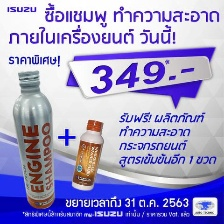bottle: (9, 68, 56, 209), (69, 118, 108, 192)
